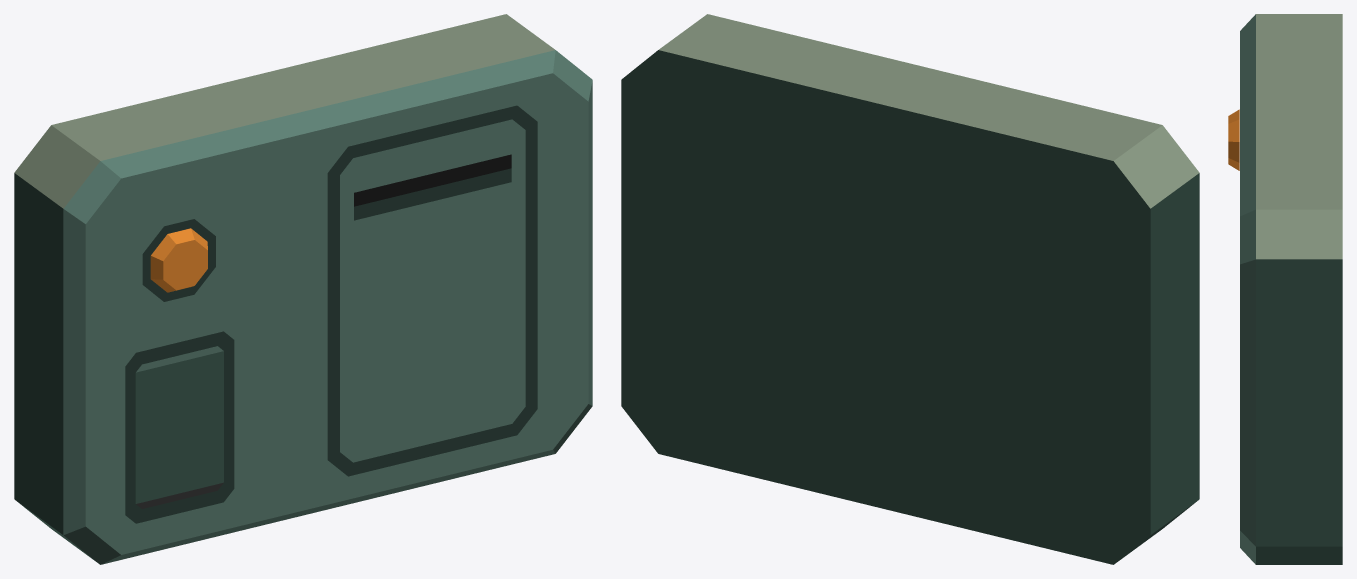
File: CR_WallPanel_Control_3.fbx
3 views of the same model, side by side, from view 1: azimuth 30°, elevation 25°; view 2: azimuth 150°, elevation 25°; view 3: azimuth 270°, elevation 25° (orthographic). The views are drawn at different scales.
Parts seen in each view (by area): view 1: CR_WallPanel_Control_3; view 2: CR_WallPanel_Control_3; view 3: CR_WallPanel_Control_3.
Part boxes in pixels (<box>): CR_WallPanel_Control_3: <box>14,14,592,564</box>; CR_WallPanel_Control_3: <box>621,14,1199,564</box>; CR_WallPanel_Control_3: <box>1228,14,1342,564</box>.
Bounding box in the file's own units: 0.6856 × 0.5 × 0.1455.
